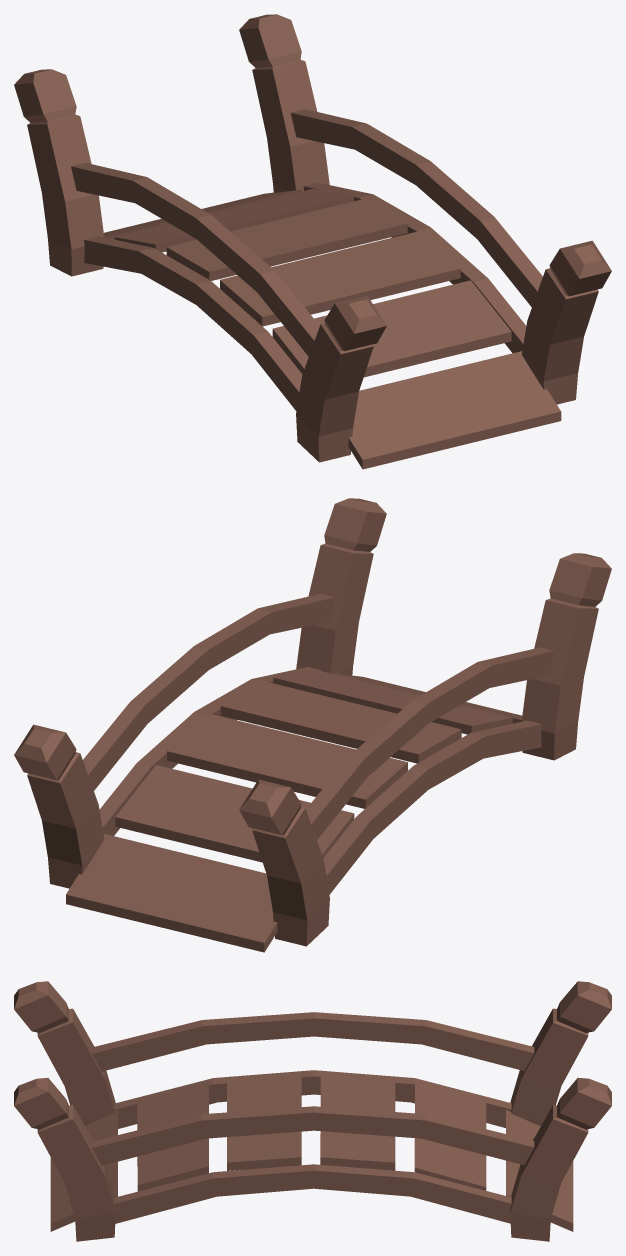
File: m_bridge1.fbx
The picture shows the model from 3 angles, top to bottom: view 1: azimuth 30°, elevation 25°; view 2: azimuth 150°, elevation 25°; view 3: azimuth 270°, elevation 25°; orthographic projection. The views are drawn at different scales.
Parts seen in each view (by area): view 1: bridge1; view 2: bridge1; view 3: bridge1.
Part boxes in pixels (x1,y1,x2,y2): bridge1: (14, 14, 611, 469); bridge1: (14, 498, 611, 952); bridge1: (14, 981, 611, 1241).
Size of the model in its own units: 94.53 by 61.54 by 215.
